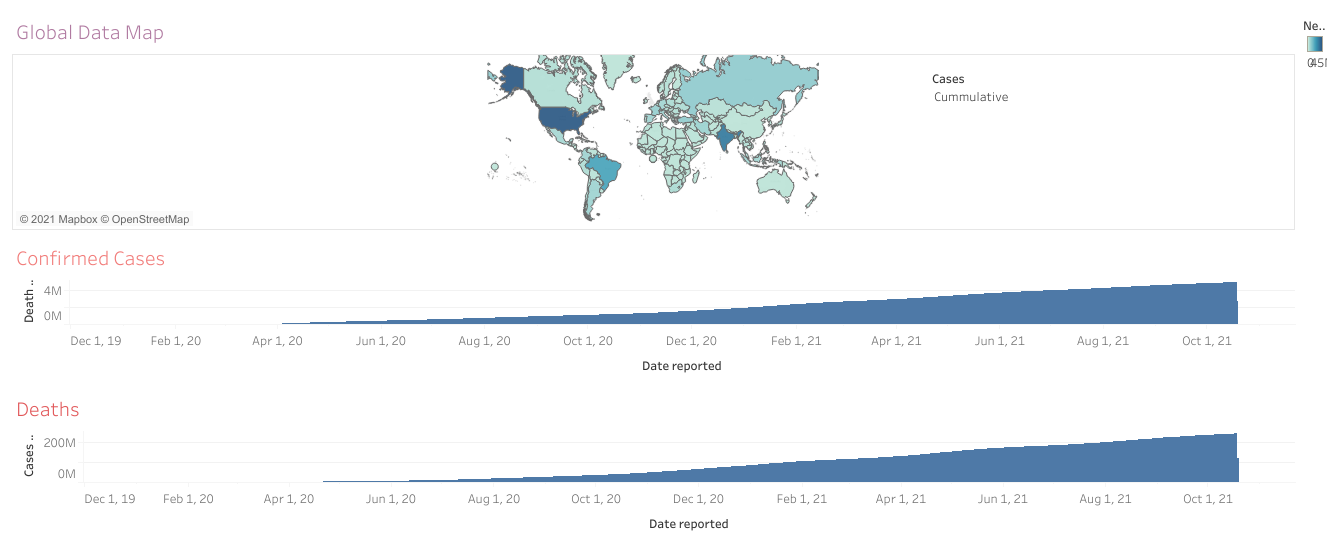

The page's visual inventory and layout, read from the dashboard file:
{"tool":"tableau","page":{"name":"Dashboard 1","canvas":[1000,1000],"units":"permille","ordinal":0},"visuals":[{"type":"worksheet","title":"Sheet 1","mark":"Multipolygon","box":[6.9,13.5,958.4,410.5]},{"type":"legend","title":"Sheet 1","param":"[federated.0qykkf21i5yg3y0zka9g714f85la].[sum:New_cases:qk]","box":[965.4,13.5,27.7,109.8]},{"type":"parameter","param":"[Parameters].[Parameter 1]","box":[696.1,123.3,138.5,74.3]},{"type":"worksheet","title":"Sheet 2 (2)","mark":"Bar","rows":["Cases Measure (copy)_740560693507366913"],"cols":["Date_reported"],"box":[6.9,424,958.4,275.3]},{"type":"worksheet","title":"Sheet 2","mark":"Bar","rows":["Calculation_740560693506437120"],"cols":["Date_reported"],"box":[6.9,699.3,958.4,287.2]}]}

Visuals, with their boxes on the dashboard's canvas, which has no fixed pixel size, in thousandths of its width and height (x1, y1, x2, y2). These are canvas units, not pixel positions in the 1338x550 screenshot, which may show the page scaled, cropped or inside an application window:
"Sheet 1" worksheet (Multipolygon marks): 7 14 965 424
"Sheet 1" legend: 965 14 993 123
parameter: 696 123 835 198
"Sheet 2 (2)" worksheet (Bar marks): 7 424 965 699
"Sheet 2" worksheet (Bar marks): 7 699 965 986
